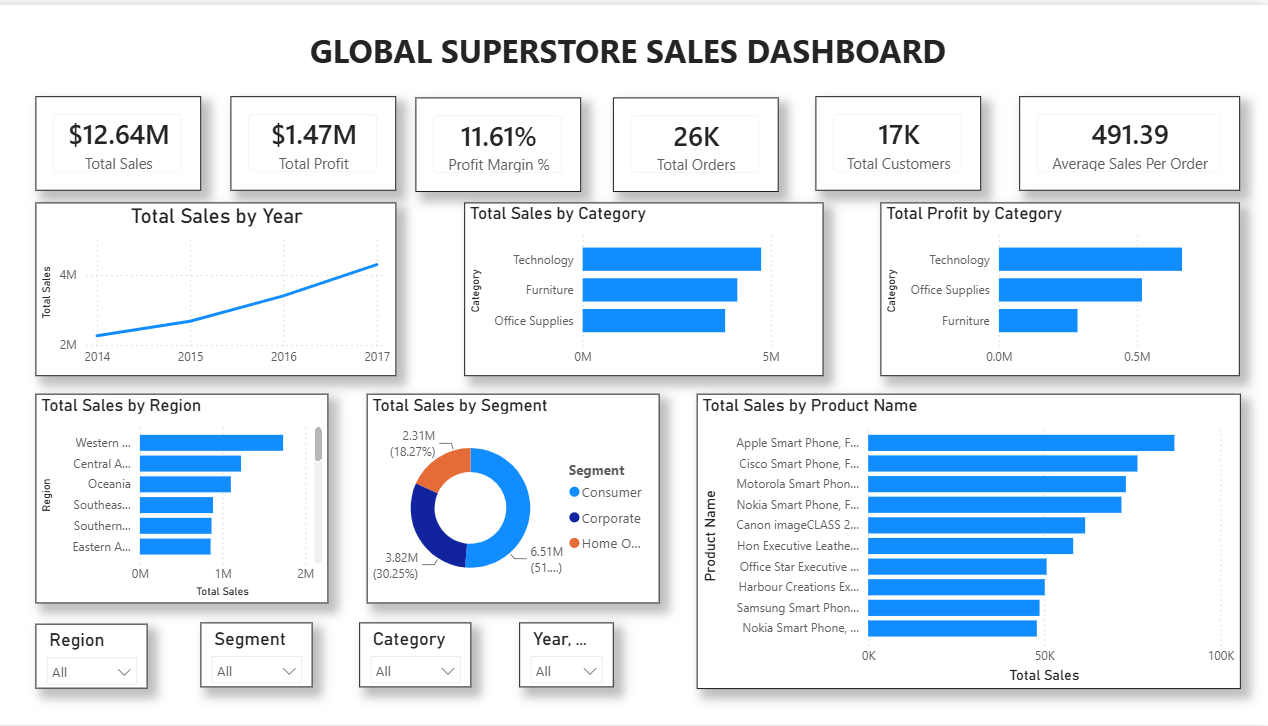

Layout of this report page (visuals, bound fields, positions):
{"tool":"powerbi","page":{"name":"Sales Dashboard","canvas":[1280,720],"ordinal":0},"visuals":[{"type":"textbox","box":[0,19.3,1280,72.4],"z":0},{"type":"cardVisual","fields":{"Data":["Orders.Total Sales"]},"box":[47.1,91.7,165.3,94.1],"z":1000},{"type":"cardVisual","fields":{"Data":["Orders.Total Profit"]},"box":[242.5,91.7,165.3,94.1],"z":2000},{"type":"cardVisual","fields":{"Data":["Orders.Profit Margin %"]},"box":[427.1,92.9,165.3,94.1],"z":3000},{"type":"cardVisual","fields":{"Data":["Orders.Total Orders"]},"box":[624.9,92.9,165.3,94.1],"z":4000},{"type":"cardVisual","fields":{"Data":["Orders.Total Customers"]},"box":[827.6,91.7,165.3,94.1],"z":5000},{"type":"cardVisual","fields":{"Data":["Orders.Average Sales Per Order"]},"box":[1031.5,91.7,220.8,94.1],"z":6000},{"type":"lineChart","fields":{"Category":["Orders.Order Date.Variation.Date Hierarchy.Year","Orders.Order Date.Variation.Date Hierarchy.Quarter","Orders.Order Date.Variation.Date Hierarchy.Month","Orders.Order Date.Variation.Date Hierarchy.Day"],"Y":["Orders.Total Sales"]},"box":[47.1,197.9,360.7,173.7],"z":7000},{"type":"clusteredBarChart","fields":{"Y":["Orders.Total Sales"],"Category":["Orders.Category"]},"box":[476.5,197.9,359.5,173.7],"z":8000},{"type":"clusteredBarChart","fields":{"Category":["Orders.Category"],"Y":["Orders.Total Profit"]},"box":[892.8,197.9,359.5,173.7],"z":9000},{"type":"clusteredBarChart","fields":{"Category":["People.Region"],"Y":["Orders.Total Sales"]},"box":[47.1,388.5,293.2,209.9],"z":10000},{"type":"donutChart","fields":{"Y":["Orders.Total Sales"],"Category":["Orders.Segment"]},"box":[378.8,388.5,293.2,209.9],"z":11000},{"type":"clusteredBarChart","fields":{"Y":["Orders.Total Sales"],"Category":["Orders.Product Name"]},"box":[708.2,388.5,544.1,295.6],"z":12000},{"type":"slicer","fields":{"Values":["People.Region"]},"box":[47.1,618.9,112.2,65.1],"z":13000},{"type":"slicer","fields":{"Values":["Orders.Segment"]},"box":[212.3,617.7,112.2,65.1],"z":13001},{"type":"slicer","fields":{"Values":["Orders.Category"]},"box":[371.6,617.7,112.2,65.1],"z":13002},{"type":"slicer","fields":{"Values":["Orders.Order Date.Variation.Date Hierarchy.Year","Orders.Order Date.Variation.Date Hierarchy.Quarter","Orders.Order Date.Variation.Date Hierarchy.Month","Orders.Order Date.Variation.Date Hierarchy.Day"]},"box":[530.8,617.7,94.1,65.1],"z":13003}]}

Visuals, with their boxes in screenshot pixels (x1, y1, x2, y2), scaled from the page's 1280x720 canvas onto the 1268x726 screenshot:
textbox: 0:19:1267:92
cardVisual - Orders.Total Sales: 47:92:210:187
cardVisual - Orders.Total Profit: 240:92:404:187
cardVisual - Orders.Profit Margin %: 423:94:587:189
cardVisual - Orders.Total Orders: 619:94:783:189
cardVisual - Orders.Total Customers: 820:92:984:187
cardVisual - Orders.Average Sales Per Order: 1022:92:1241:187
lineChart - Orders.Order Date.Variation.Date Hierarchy.Year x Orders.Order Date.Variation.Date Hierarchy.Quarter: 47:200:404:375
clusteredBarChart - Orders.Total Sales x Orders.Category: 472:200:828:375
clusteredBarChart - Orders.Category x Orders.Total Profit: 884:200:1241:375
clusteredBarChart - People.Region x Orders.Total Sales: 47:392:337:603
donutChart - Orders.Total Sales x Orders.Segment: 375:392:666:603
clusteredBarChart - Orders.Total Sales x Orders.Product Name: 702:392:1241:690
slicer - People.Region: 47:624:158:690
slicer - Orders.Segment: 210:623:321:688
slicer - Orders.Category: 368:623:479:688
slicer - Orders.Order Date.Variation.Date Hierarchy.Year x Orders.Order Date.Variation.Date Hierarchy.Quarter: 526:623:619:688
